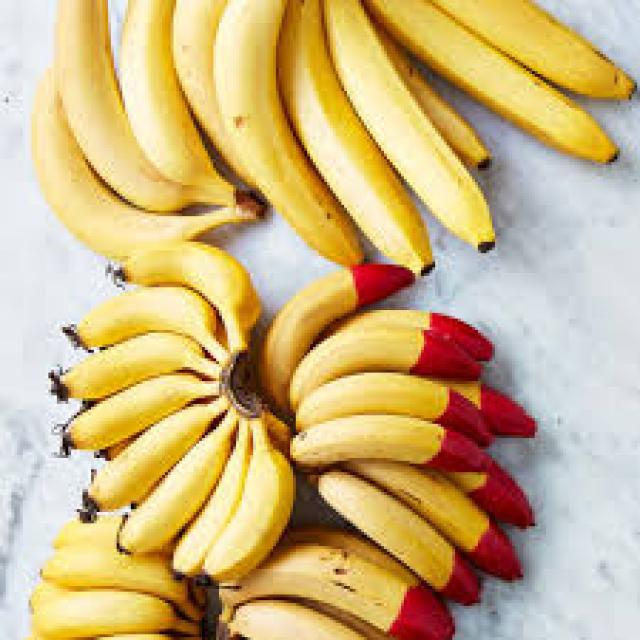Banana: (174, 0, 638, 275), (256, 262, 540, 604), (46, 242, 295, 590), (24, 0, 271, 264), (213, 520, 457, 640), (27, 517, 214, 640)
